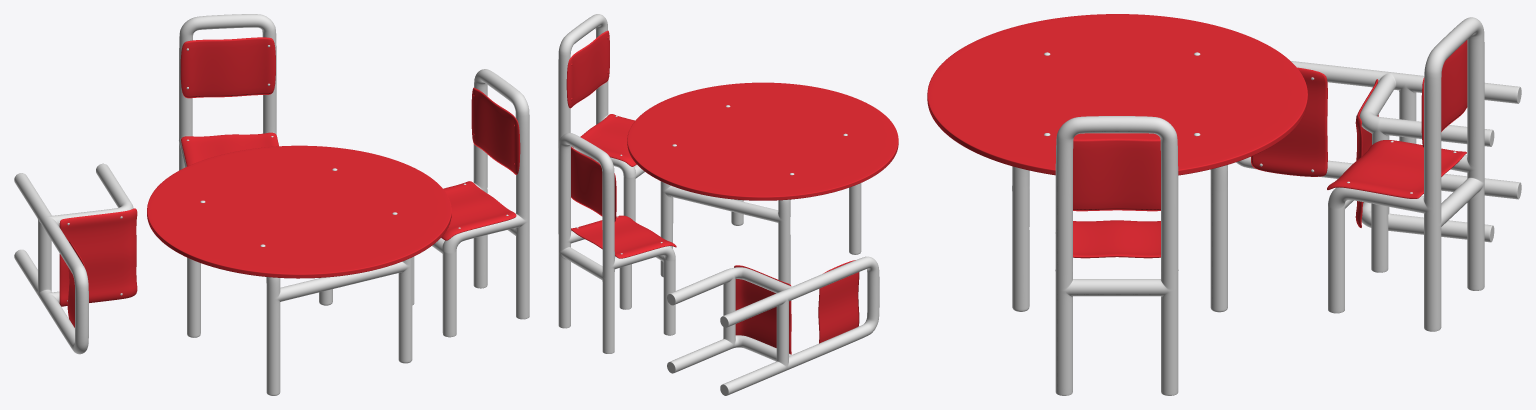
Rendered from chair_n_table.fbx.
3 views of the same model, side by side, from view 1: azimuth 30°, elevation 25°; view 2: azimuth 150°, elevation 25°; view 3: azimuth 270°, elevation 25° (orthographic). The views are drawn at different scales.
Visible parts, largest first — view 1: Table, Chair1, Chair3, Chair2; view 2: Table, Chair3, Chair2, Chair1; view 3: Table, Chair1, Chair2, Chair3.
Part boxes in pixels (x1,y1,x2,y2): Table: (147,145,451,395); Chair1: (412,69,529,337); Chair3: (14,163,137,354); Chair2: (179,14,278,170); Table: (627,82,898,284); Chair3: (667,256,879,395); Chair2: (558,133,676,353); Chair1: (558,14,673,233); Table: (927,14,1307,312); Chair1: (1055,116,1178,395); Chair2: (1327,17,1484,331); Chair3: (1236,61,1521,242).
Size of what is drawn, in the model's own units: 5795 by 3191 by 6206.
